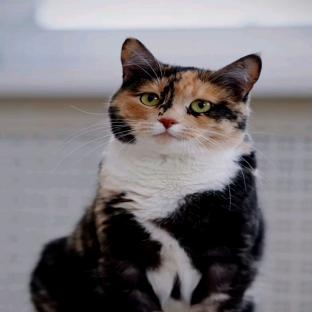Animal: (30, 38, 265, 312)
